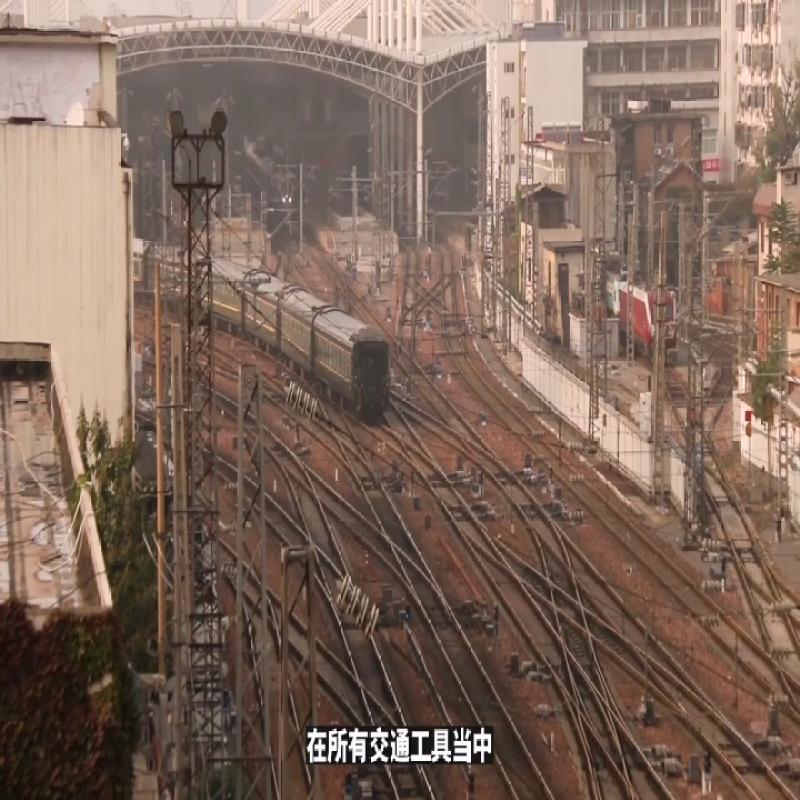train: (312, 317, 396, 419)
